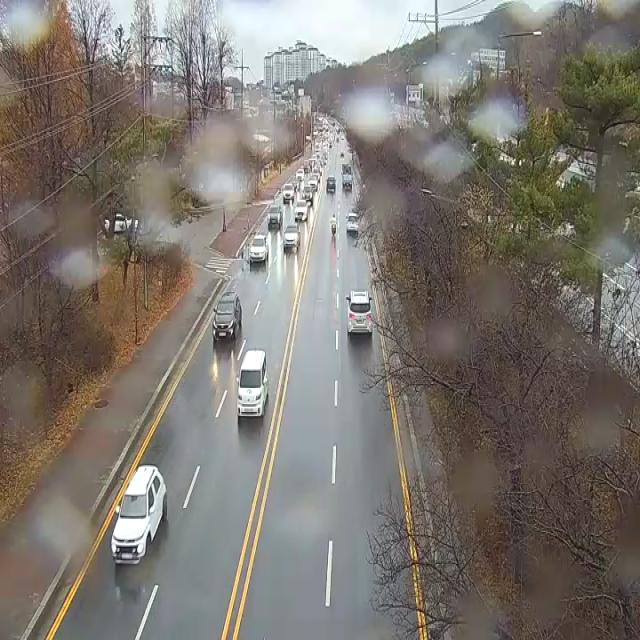Car: (111, 466, 167, 564), (236, 351, 268, 417), (98, 202, 144, 236), (212, 292, 242, 341), (346, 291, 372, 334), (250, 235, 268, 262), (284, 225, 300, 246), (268, 205, 282, 224), (294, 200, 308, 219), (346, 213, 358, 231), (283, 183, 294, 200), (302, 185, 312, 201), (326, 177, 336, 191), (308, 178, 318, 190), (291, 179, 300, 190), (296, 168, 304, 180)
Motorcycle: (329, 206, 340, 246)
Truck: (342, 166, 352, 188)
